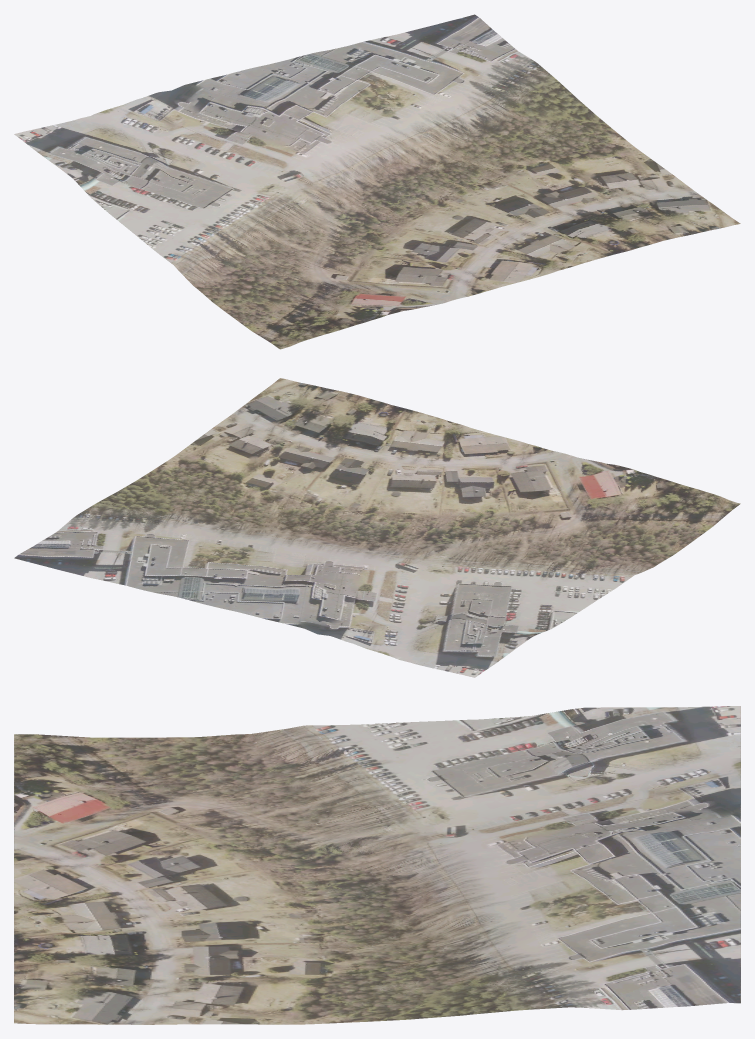
Rendered from CM_Terrain_24492506_6815084.fbx.
The picture shows the model from 3 angles, top to bottom: view 1: azimuth 30°, elevation 25°; view 2: azimuth 150°, elevation 25°; view 3: azimuth 270°, elevation 25°; orthographic projection. The views are drawn at different scales.
Parts seen in each view (by area): view 1: CM_Terrain_24492506_6815084_LOD0; view 2: CM_Terrain_24492506_6815084_LOD0; view 3: CM_Terrain_24492506_6815084_LOD0.
Boxes of the visible parts, x1=… form: CM_Terrain_24492506_6815084_LOD0: x1=14, y1=14, x2=740, y2=349; CM_Terrain_24492506_6815084_LOD0: x1=14, y1=378, x2=740, y2=677; CM_Terrain_24492506_6815084_LOD0: x1=14, y1=706, x2=740, y2=1024.
Size of what is drawn, in the model's own units: 205 by 13.31 by 205.
